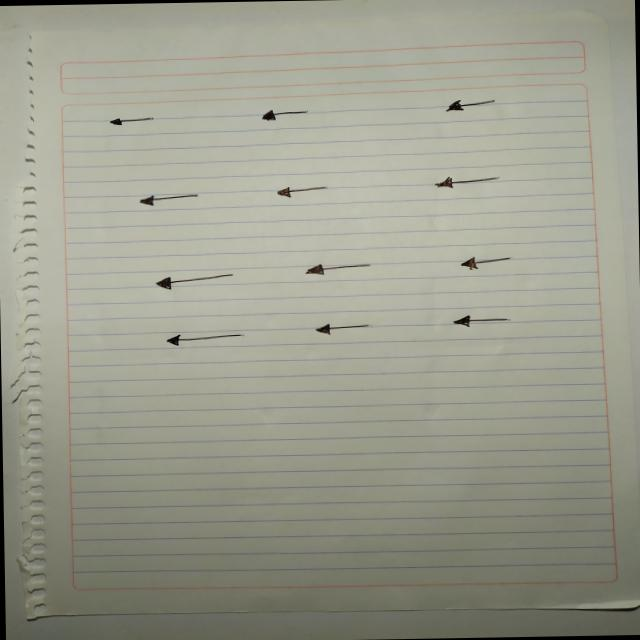arrow_line_left: (84, 108, 184, 136), (144, 266, 244, 294), (417, 170, 514, 197), (288, 257, 386, 283), (116, 186, 217, 210), (298, 316, 385, 342), (149, 326, 262, 346), (447, 252, 532, 278), (429, 92, 518, 116), (248, 102, 332, 125), (439, 310, 523, 332), (265, 182, 343, 202)
